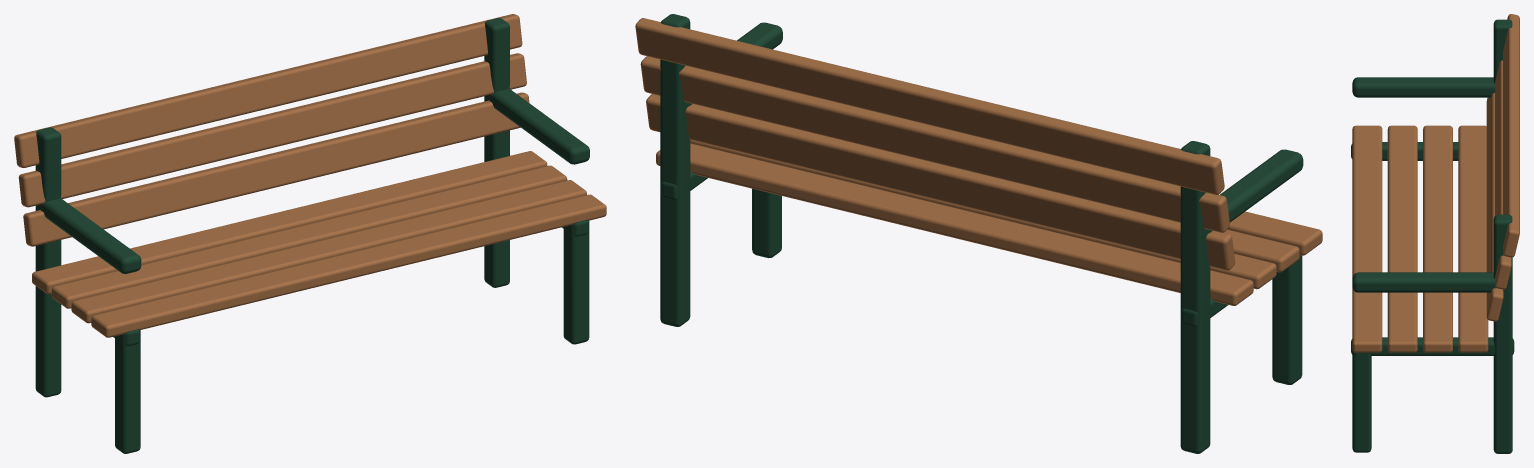
Rendered from Bank.fbx.
The picture shows the model from 3 angles, left to right: view 1: azimuth 30°, elevation 25°; view 2: azimuth 150°, elevation 25°; view 3: azimuth 270°, elevation 25°; orthographic projection. The views are drawn at different scales.
Visible parts, largest first — view 1: Bank_Model; view 2: Bank_Model; view 3: Bank_Model.
Boxes of the visible parts, x1,y1,x2,y2 form: Bank_Model: [14, 14, 606, 453]; Bank_Model: [635, 14, 1322, 453]; Bank_Model: [1351, 14, 1519, 453].
Bounding box in the file's own units: 1.9 × 0.95 × 0.6209.
